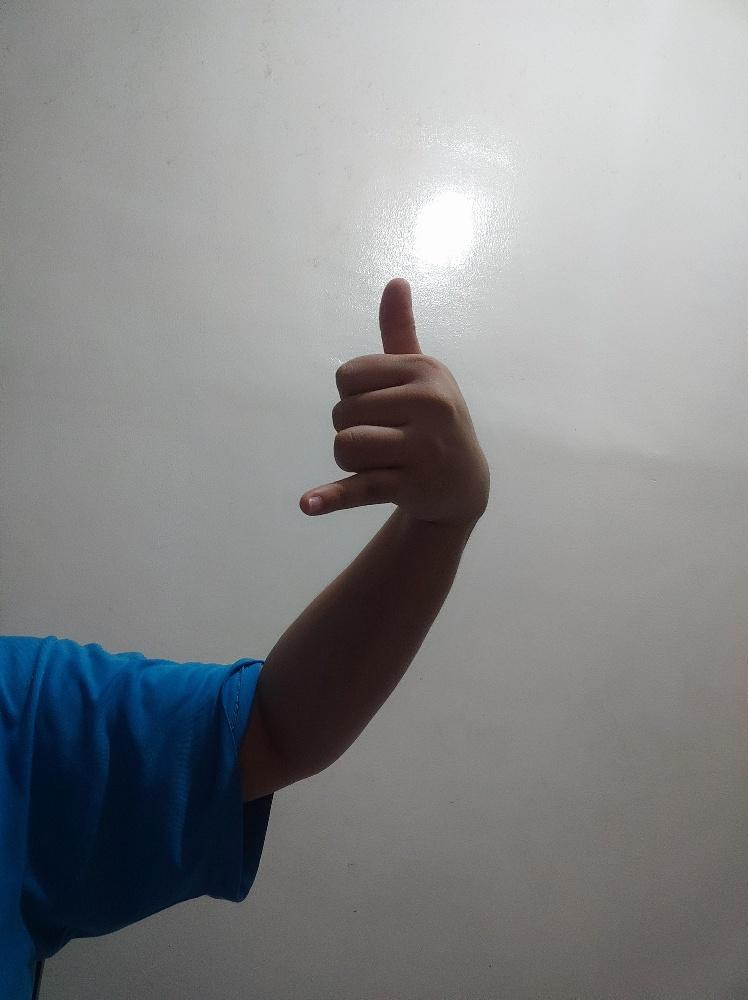j: (298, 276, 489, 520)
